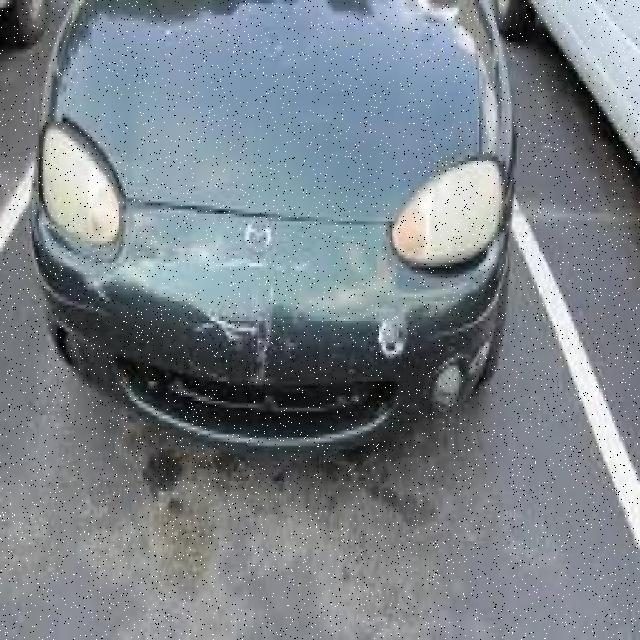damage: (190, 253, 301, 383), (370, 303, 409, 363)
